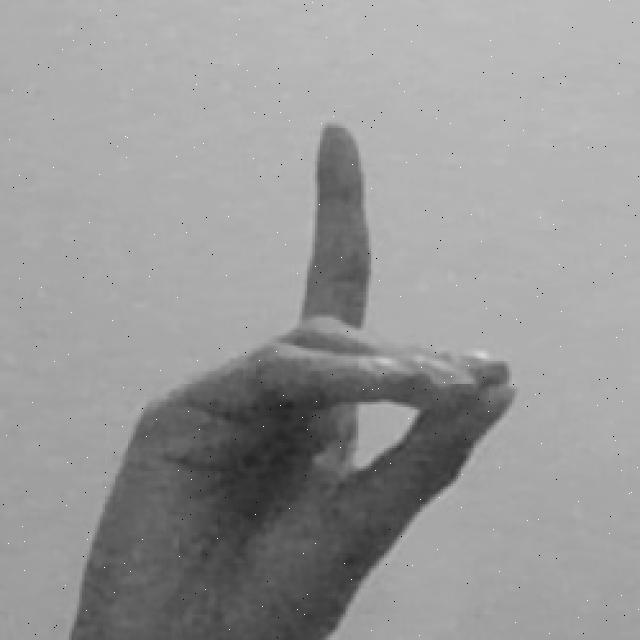D: (62, 120, 524, 640)
